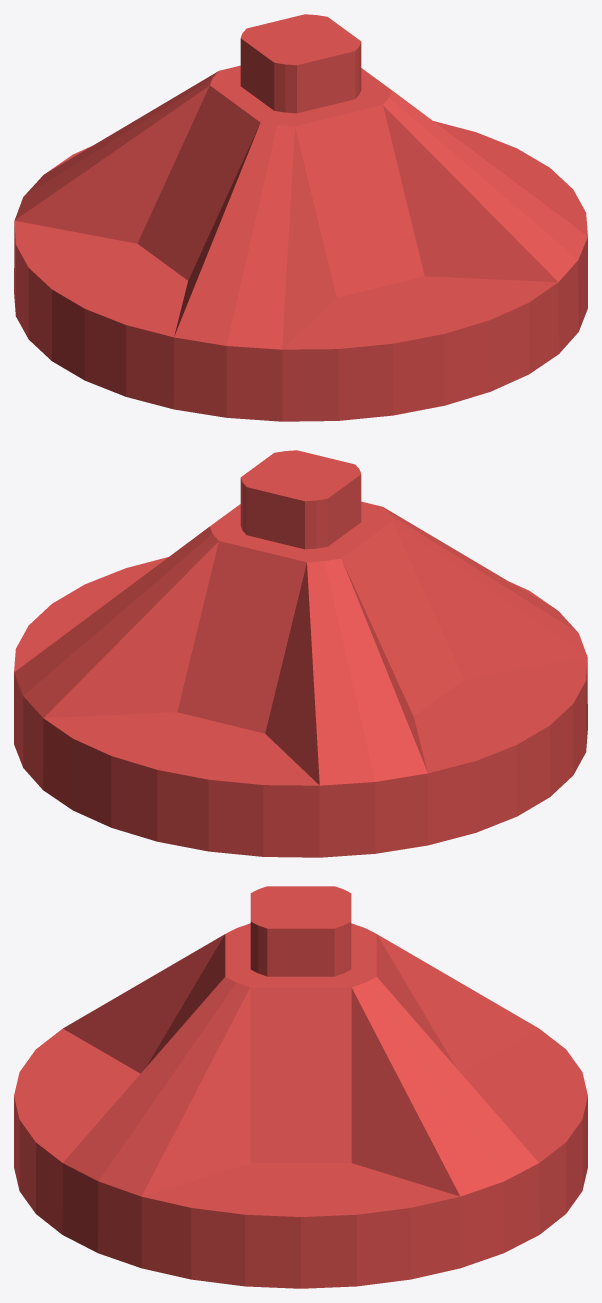
Rendered from tower_base.gltf.
3 views of the same model, one above another, from view 1: azimuth 30°, elevation 25°; view 2: azimuth 150°, elevation 25°; view 3: azimuth 270°, elevation 25° (orthographic).
Parts seen in each view (by area): view 1: Tower_Base; view 2: Tower_Base; view 3: Tower_Base.
Part boxes in pixels (bbox=[...]): Tower_Base: bbox=[14, 14, 587, 421]; Tower_Base: bbox=[14, 450, 587, 857]; Tower_Base: bbox=[14, 886, 587, 1288].
Bounding box in the file's own units: 0.1 × 0.05 × 0.1.
